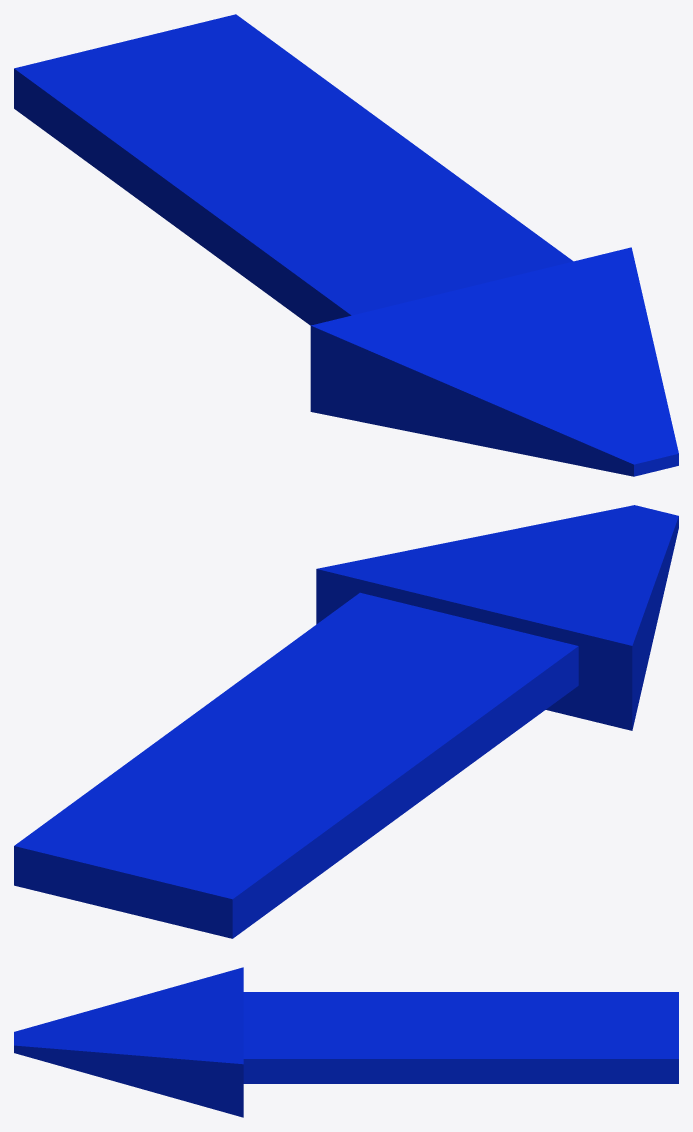
Rendered from arrow.fbx.
The picture shows the model from 3 angles, top to bottom: view 1: azimuth 30°, elevation 25°; view 2: azimuth 150°, elevation 25°; view 3: azimuth 270°, elevation 25°; orthographic projection. The views are drawn at different scales.
Parts seen in each view (by area): view 1: Cube; view 2: Cube; view 3: Cube.
Part boxes in pixels (bbox=[...]): Cube: bbox=[14, 14, 678, 476]; Cube: bbox=[14, 505, 678, 938]; Cube: bbox=[14, 967, 678, 1117].
Size of the model in its own units: 98.43 by 25.31 by 285.
